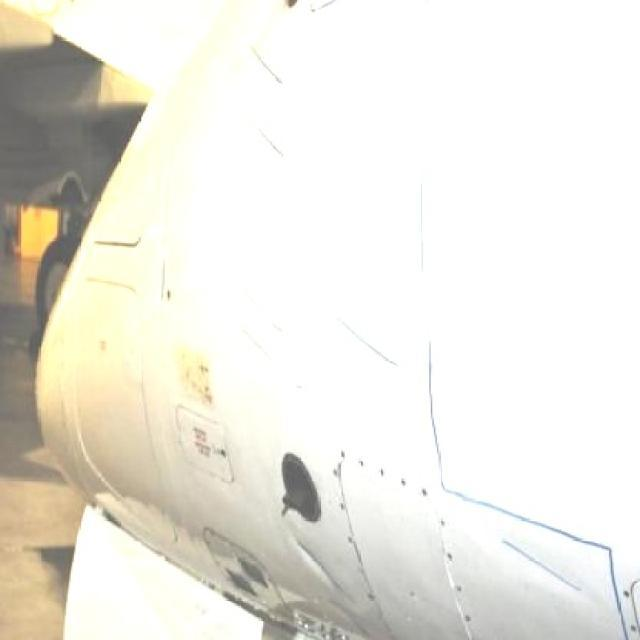dent: (475, 521, 598, 600), (297, 540, 351, 600)
